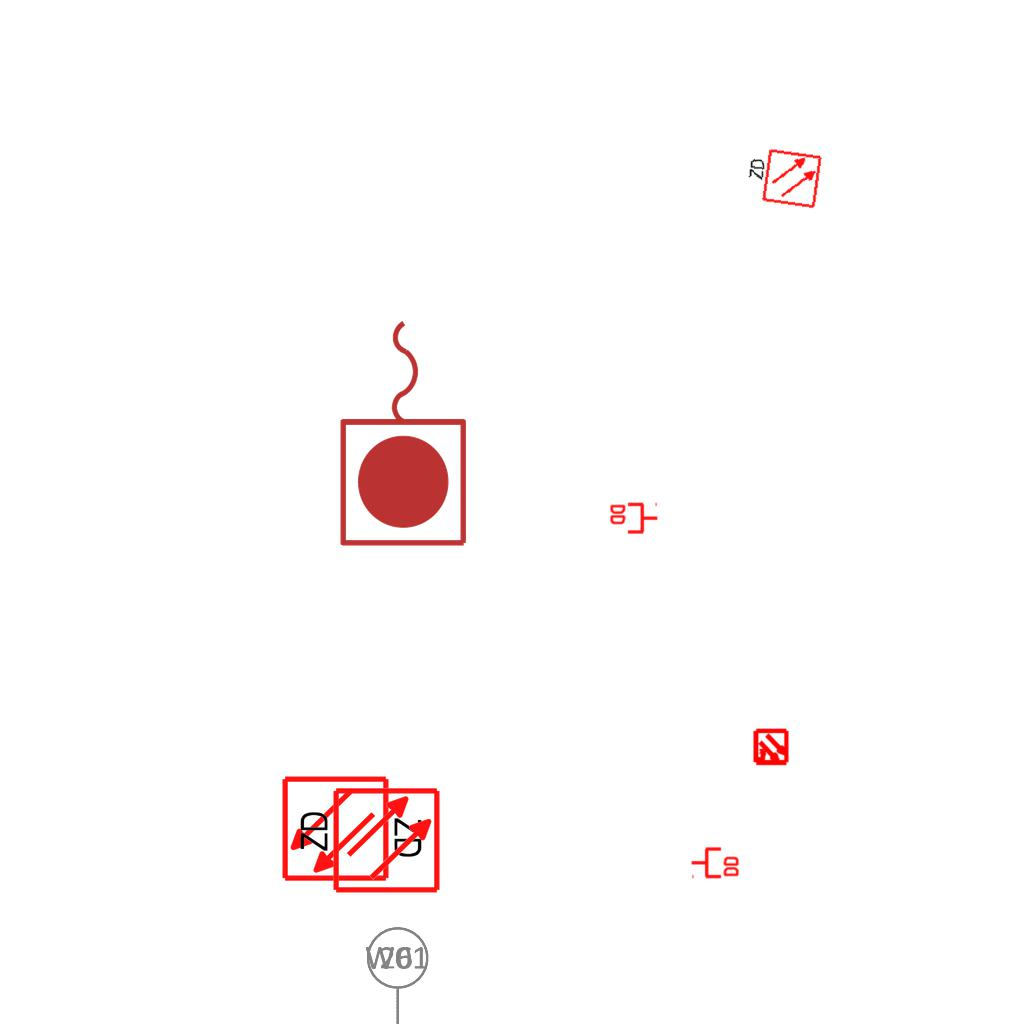Datenanschluss_zweifach: (690, 845, 741, 879), (608, 502, 659, 536)
OT_Multisensormelder_(Kombination_RMO_WMD): (743, 720, 799, 776)
ZD_Melder_in_Zwischendecke_mit_Revisionsoeffnung_mind_40_x_40_cm: (280, 770, 429, 884), (293, 785, 442, 899), (741, 144, 824, 212)
Zugtaster: (333, 310, 477, 554)
